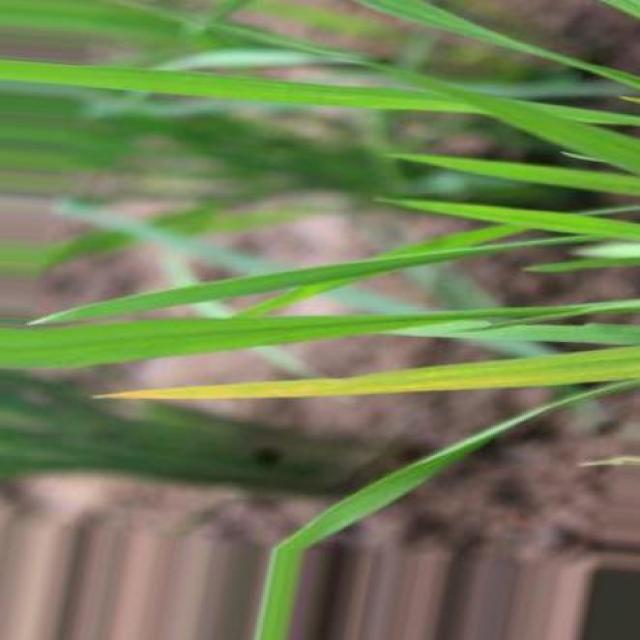Rice Tungro: (104, 348, 640, 399)
